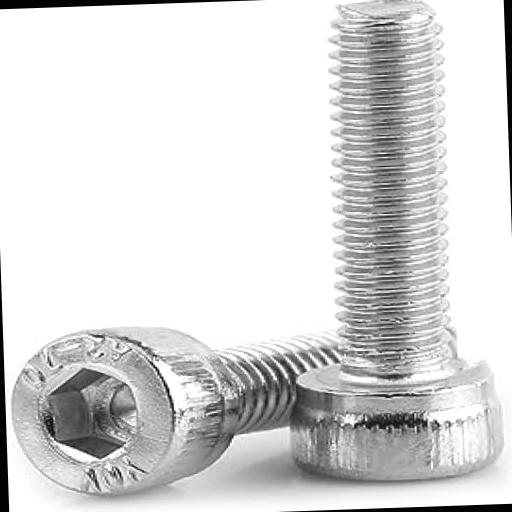Hex-Allen: (12, 318, 230, 501)
